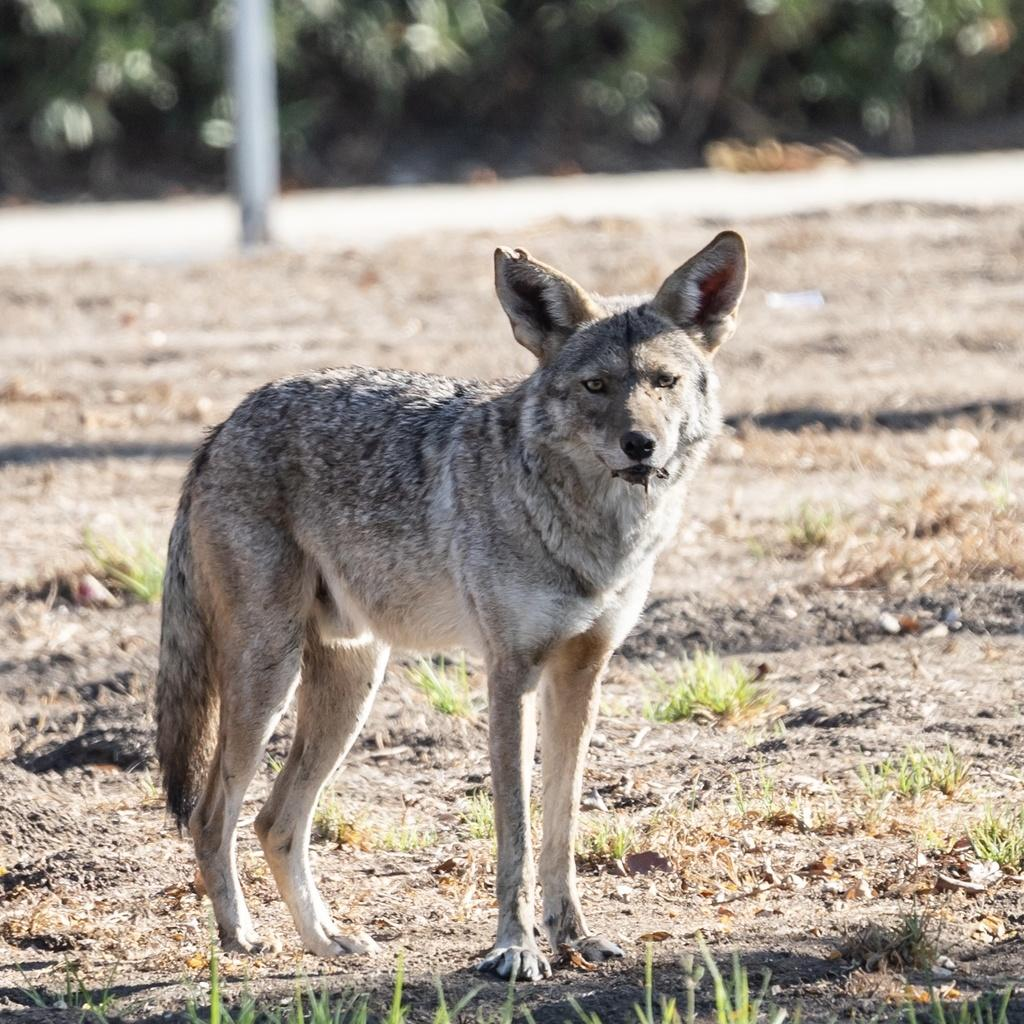Coyote: (150, 225, 753, 991)
